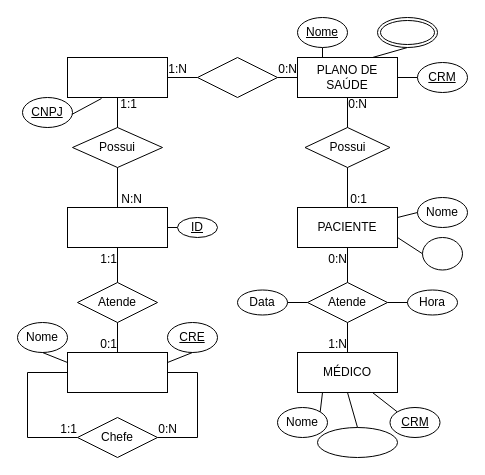
Some shapes in this 485 by 475 pixel diagram are drawn without their labels. Here are the shapes that lost their labels. From the top down, the centre of each, then its label:
At (407,32): "Telefone".
At (117,77): "HOSPITAL".
At (237,77): "Credencia".
At (117,227): "ALA DO HOSPITAL".
At (442,253): "CPF".
At (117,372): "ENFERMEIRA".
At (357,442): "Especialidade".
